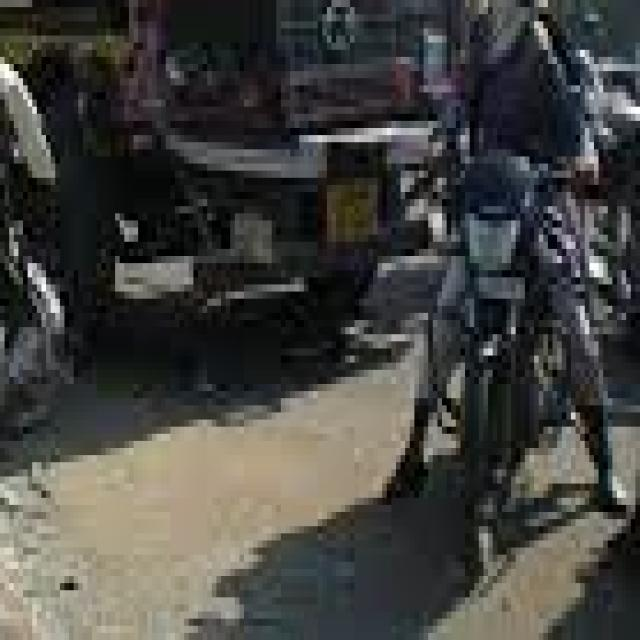bike: (414, 121, 580, 547)
